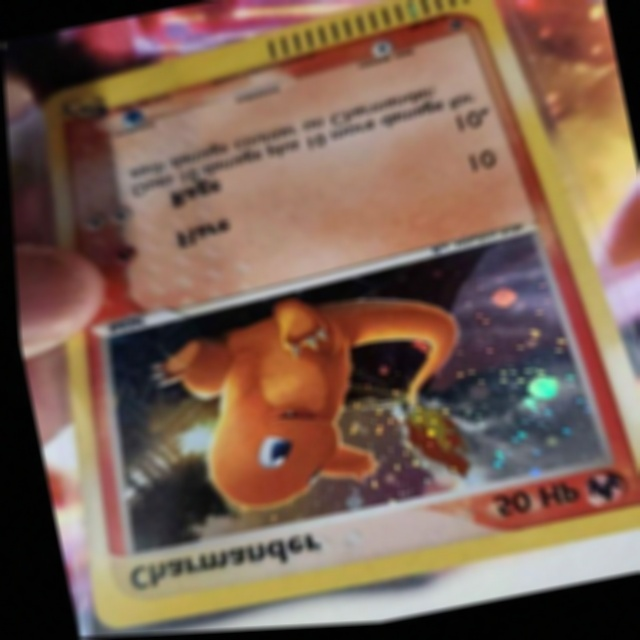card: (40, 0, 640, 632)
